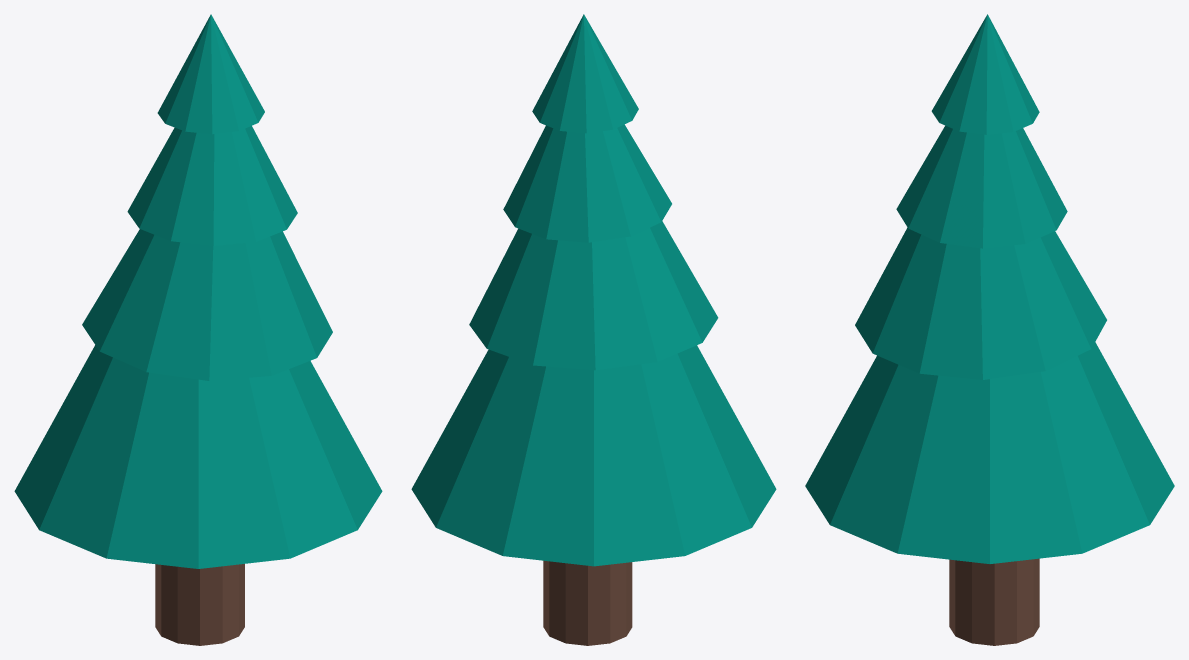
File: pine.glb
3 renders of one model, left to right at view 1: azimuth 30°, elevation 25°; view 2: azimuth 150°, elevation 25°; view 3: azimuth 270°, elevation 25°, orthographic.
Visible parts, largest first — view 1: group302406045, group558928348, group1852343849, group116569604, group1839540034; view 2: group302406045, group558928348, group1852343849, group116569604, group1839540034; view 3: group302406045, group558928348, group1852343849, group1839540034, group116569604.
Part boxes in pixels (box(x1,y1,x2,y2)): group302406045: box(14, 345, 382, 568); group558928348: box(82, 229, 332, 380); group1852343849: box(127, 126, 297, 245); group116569604: box(157, 14, 264, 134); group1839540034: box(155, 564, 244, 645); group302406045: box(411, 345, 776, 566); group558928348: box(469, 221, 718, 370); group1852343849: box(503, 124, 671, 242); group116569604: box(532, 14, 638, 133); group1839540034: box(543, 560, 632, 645); group302406045: box(805, 342, 1174, 563); group558928348: box(855, 227, 1106, 379); group1852343849: box(896, 125, 1067, 248); group1839540034: box(949, 558, 1039, 645); group116569604: box(931, 14, 1039, 134).
Size of the model in its own units: 0.41 by 0.7544 by 0.41.
